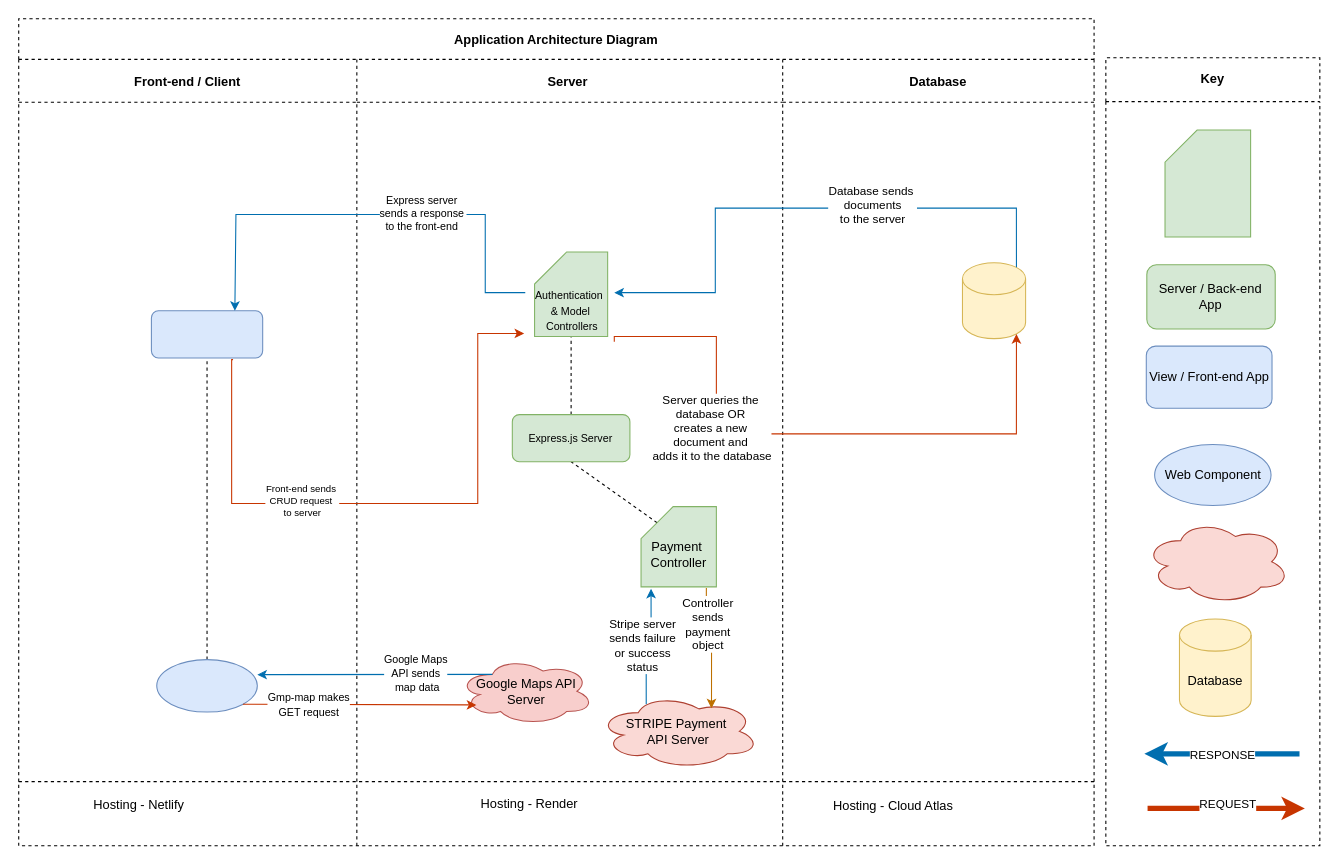
This 1339x865 diagram has some shape labels left out. Here are the shapes that lost their labels. From the top down, the box of each, then its label:
(1164, 129, 1251, 237): Controller
(961, 262, 1026, 339): MongoDb Database
(150, 310, 263, 358): React.js App
(1143, 518, 1290, 604): External Server
(156, 659, 257, 712): Gmp-map
